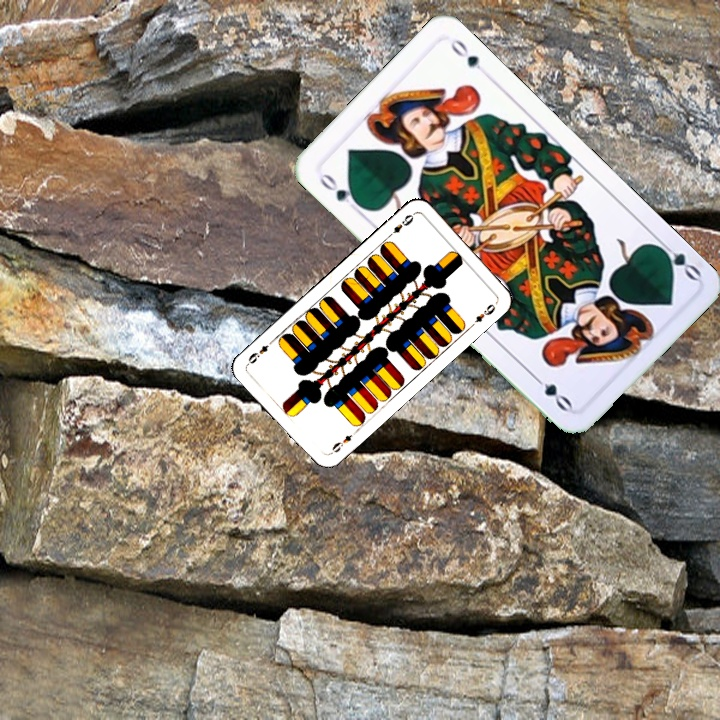E9: (383, 210, 416, 240), (325, 430, 355, 457)
GO: (651, 235, 704, 284), (315, 168, 364, 210)
